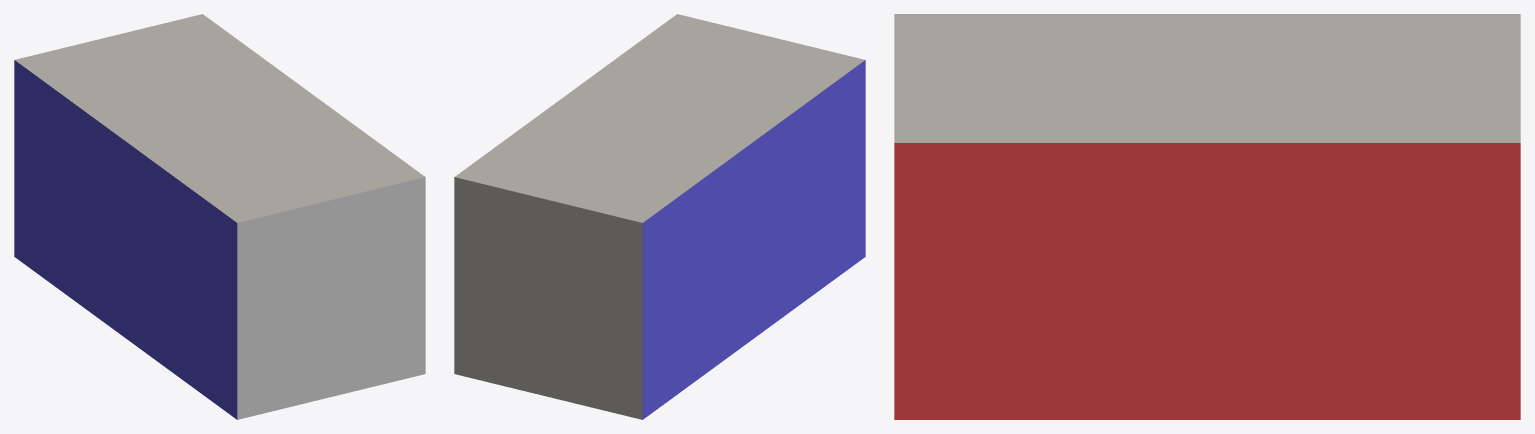
The picture shows the model from 3 angles, left to right: view 1: azimuth 30°, elevation 25°; view 2: azimuth 150°, elevation 25°; view 3: azimuth 270°, elevation 25°; orthographic projection. The views are drawn at different scales.
Parts seen in each view (by area): view 1: leftWall, ceiling, frontWall; view 2: leftWall, ceiling, backWall; view 3: rightWall, ceiling.
Boxes of the visible parts, x1,y1,x2,y2 form: leftWall: (14,60,237,419); ceiling: (15,14,424,222); frontWall: (237,177,425,419); leftWall: (642,60,865,419); ceiling: (455,14,864,222); backWall: (454,177,642,419); rightWall: (894,143,1520,419); ceiling: (894,14,1520,142).
Bounding box in the file's own units: 2 × 2 × 4.1.
